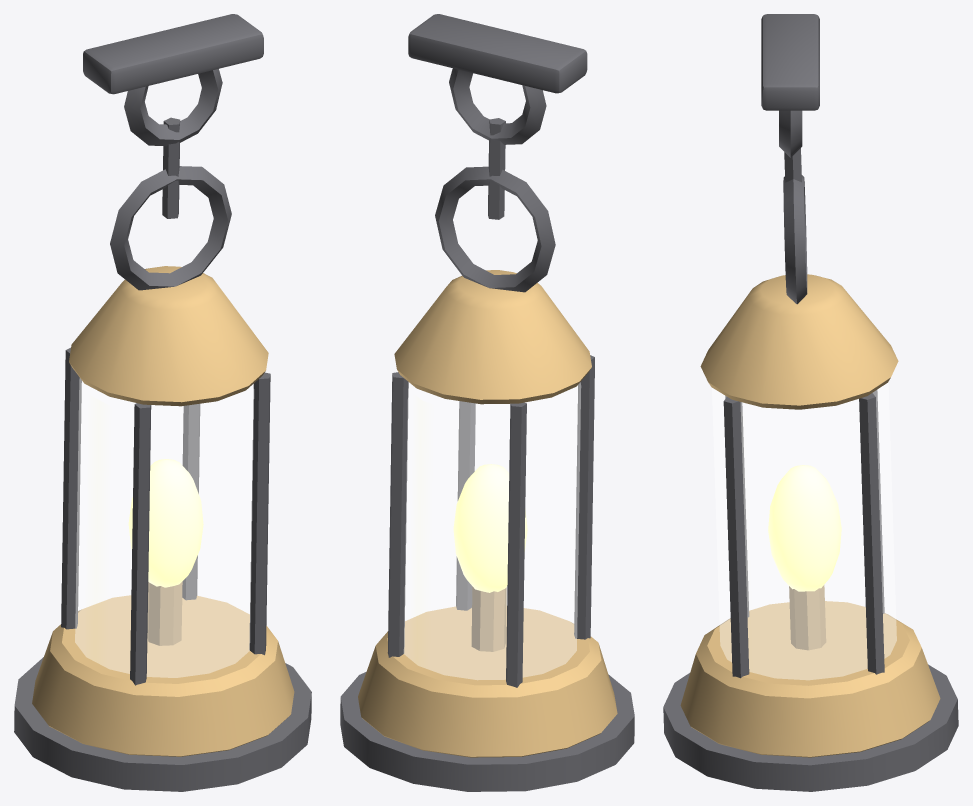
Rendered from bg_lantern.glb.
3 views of the same model, side by side, from view 1: azimuth 30°, elevation 25°; view 2: azimuth 150°, elevation 25°; view 3: azimuth 270°, elevation 25° (orthographic).
Parts seen in each view (by area): view 1: lantern, bg_lantern; view 2: lantern, bg_lantern; view 3: lantern, bg_lantern.
Part boxes in pixels (x1,y1,x2,y2): lantern: (14,117,311,791); bg_lantern: (83,14,263,146); lantern: (340,118,634,791); bg_lantern: (408,14,587,144); lantern: (663,148,958,791); bg_lantern: (761,14,819,157).
Bounding box in the file's own units: 0.2 × 0.5127 × 0.2005.
